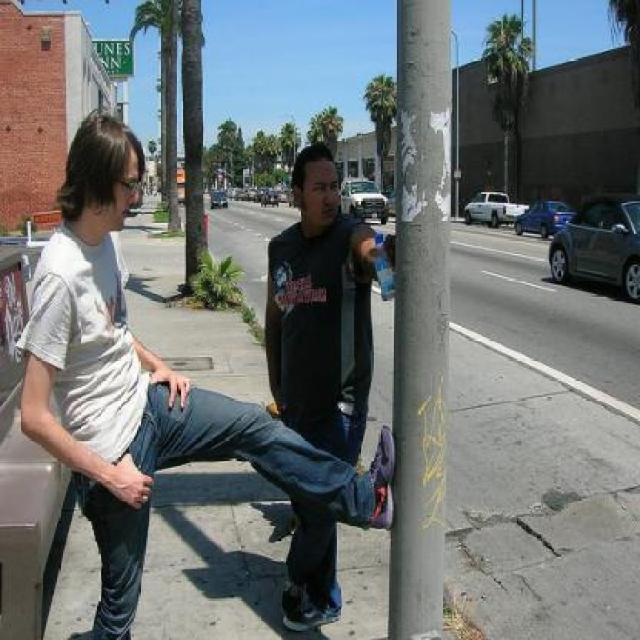Person: (13, 108, 396, 629), (263, 142, 400, 624)
